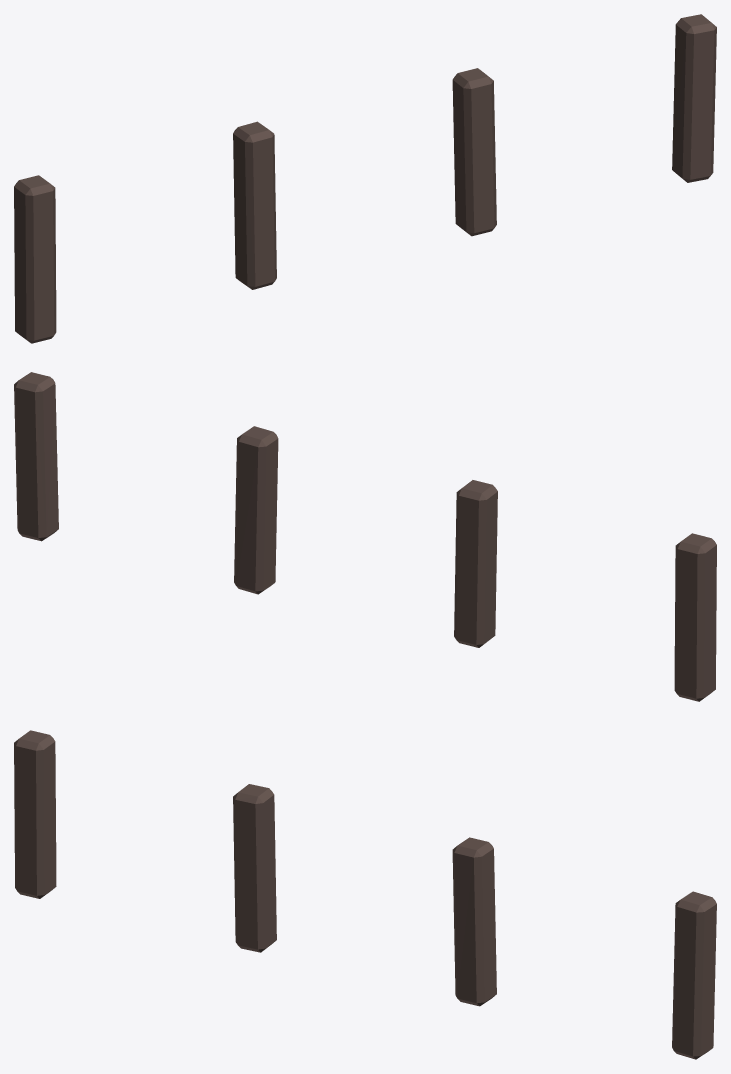
The model's file is fence_6_4.ol.glb.
3 views of the same model, one above another, from view 1: azimuth 30°, elevation 25°; view 2: azimuth 150°, elevation 25°; view 3: azimuth 330°, elevation 25° (orthographic).
Visible parts, largest first — view 1: outline; view 2: outline; view 3: outline.
Boxes of the visible parts, bbox=[...] form: outline: bbox=[14, 14, 716, 343]; outline: bbox=[14, 372, 716, 701]; outline: bbox=[14, 730, 716, 1059].
Bounding box in the file's own units: 6.3 × 1.36 × 0.2829.
